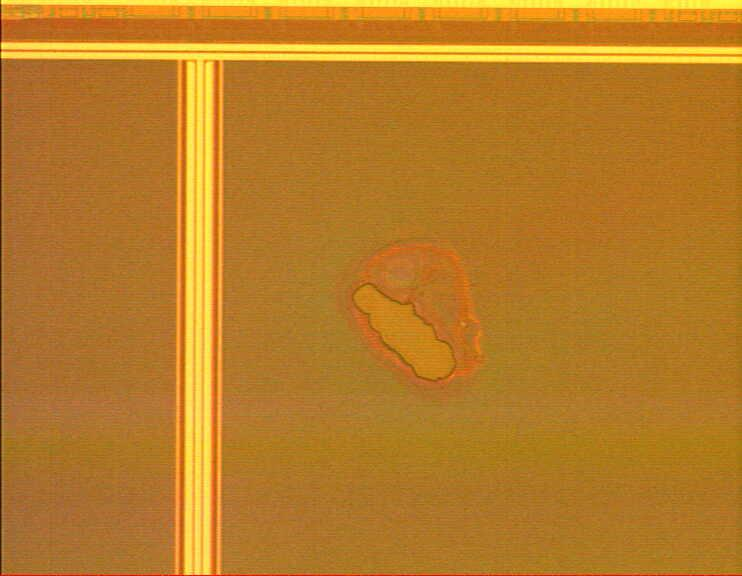PIQ PARTICLE: (340, 235, 495, 394)
